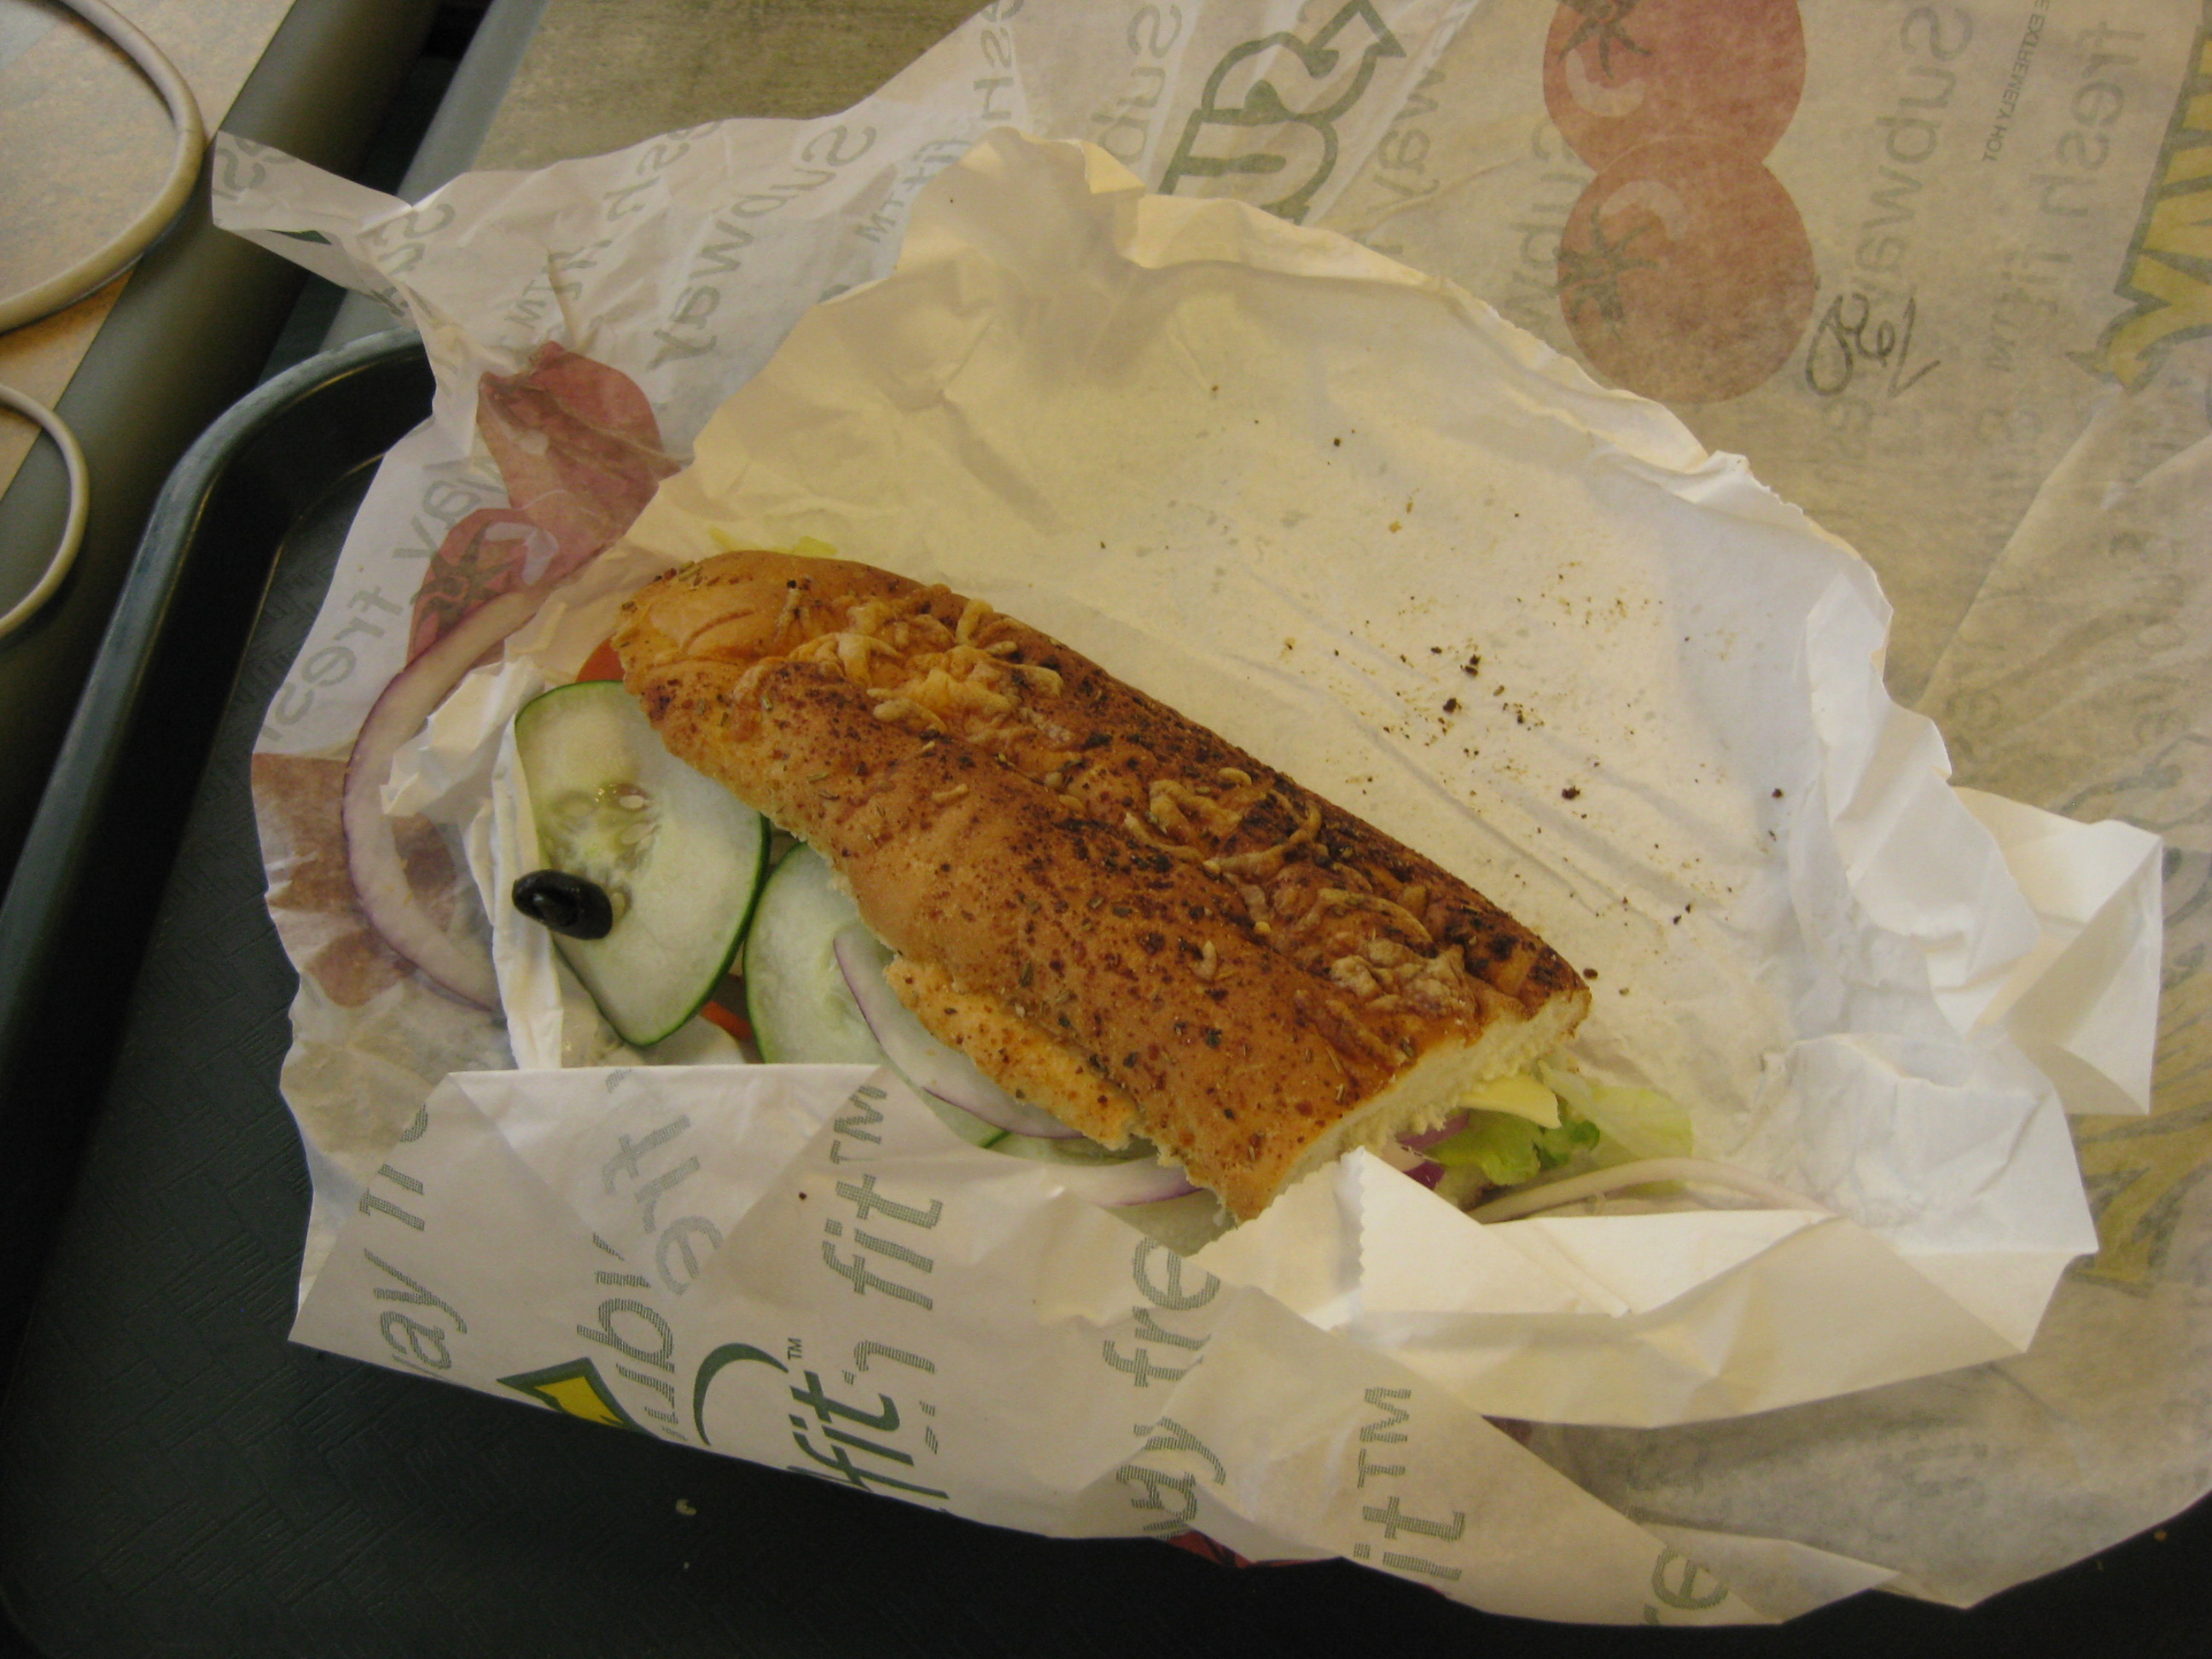sub: (405, 515, 1694, 1234)
